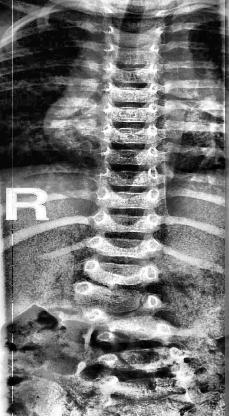Vertebrae: (82, 305, 178, 347), (74, 278, 166, 316), (96, 342, 188, 378), (80, 254, 162, 288), (87, 230, 163, 260), (92, 207, 162, 235), (104, 17, 166, 48), (98, 58, 166, 86), (100, 40, 170, 66), (96, 161, 164, 187), (94, 184, 162, 210), (99, 79, 163, 105), (96, 141, 160, 167), (100, 100, 162, 126), (98, 118, 160, 144)
